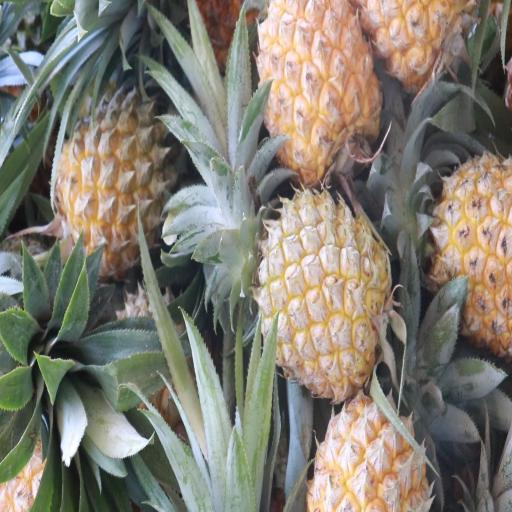------------------------------: (52, 92, 174, 265)
Pineapple - v8 v1: (263, 183, 394, 398), (259, 0, 380, 180), (307, 389, 444, 512), (425, 145, 512, 336)
